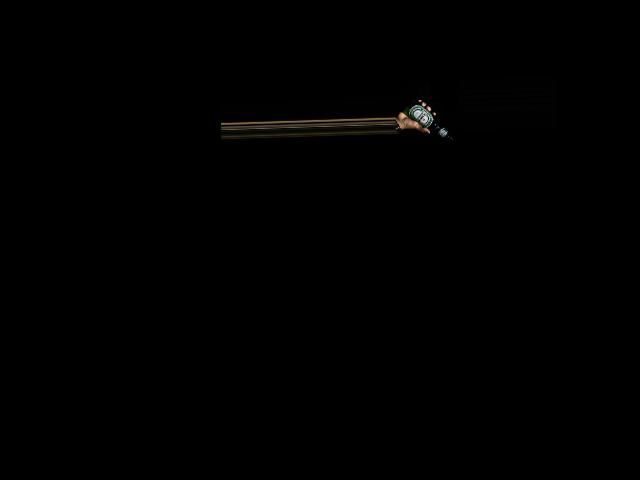beer: (400, 97, 454, 143)
